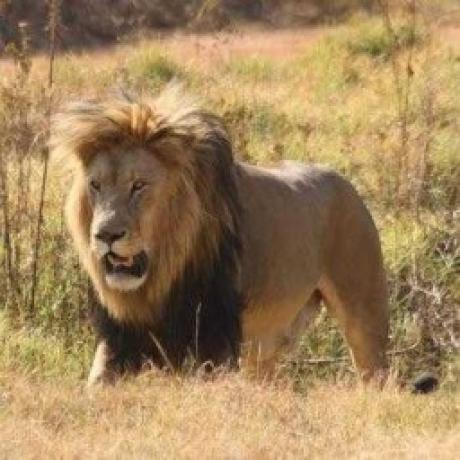Lion: (49, 84, 442, 394)
